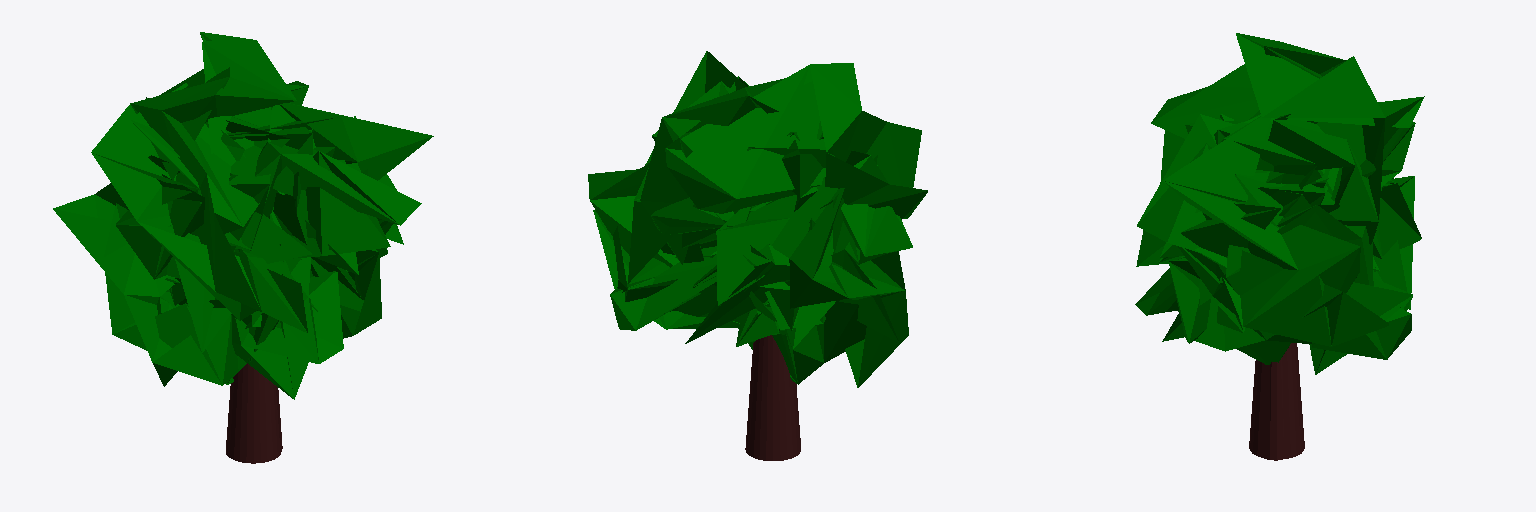
File: tree.obj
3 views of the same model, side by side, from view 1: azimuth 30°, elevation 25°; view 2: azimuth 150°, elevation 25°; view 3: azimuth 270°, elevation 25° (orthographic).
Visible parts, largest first — view 1: TorusKnot, Cylinder; view 2: TorusKnot, Cylinder; view 3: TorusKnot, Cylinder.
Boxes of the visible parts, box(x1,y1,x2,y2) form: TorusKnot: box(53, 32, 433, 399); Cylinder: box(226, 363, 282, 463); TorusKnot: box(588, 51, 927, 387); Cylinder: box(745, 335, 800, 460); TorusKnot: box(1135, 33, 1424, 374); Cylinder: box(1249, 343, 1304, 460).
Size of the model in its own units: 13.13 by 16.96 by 11.5.